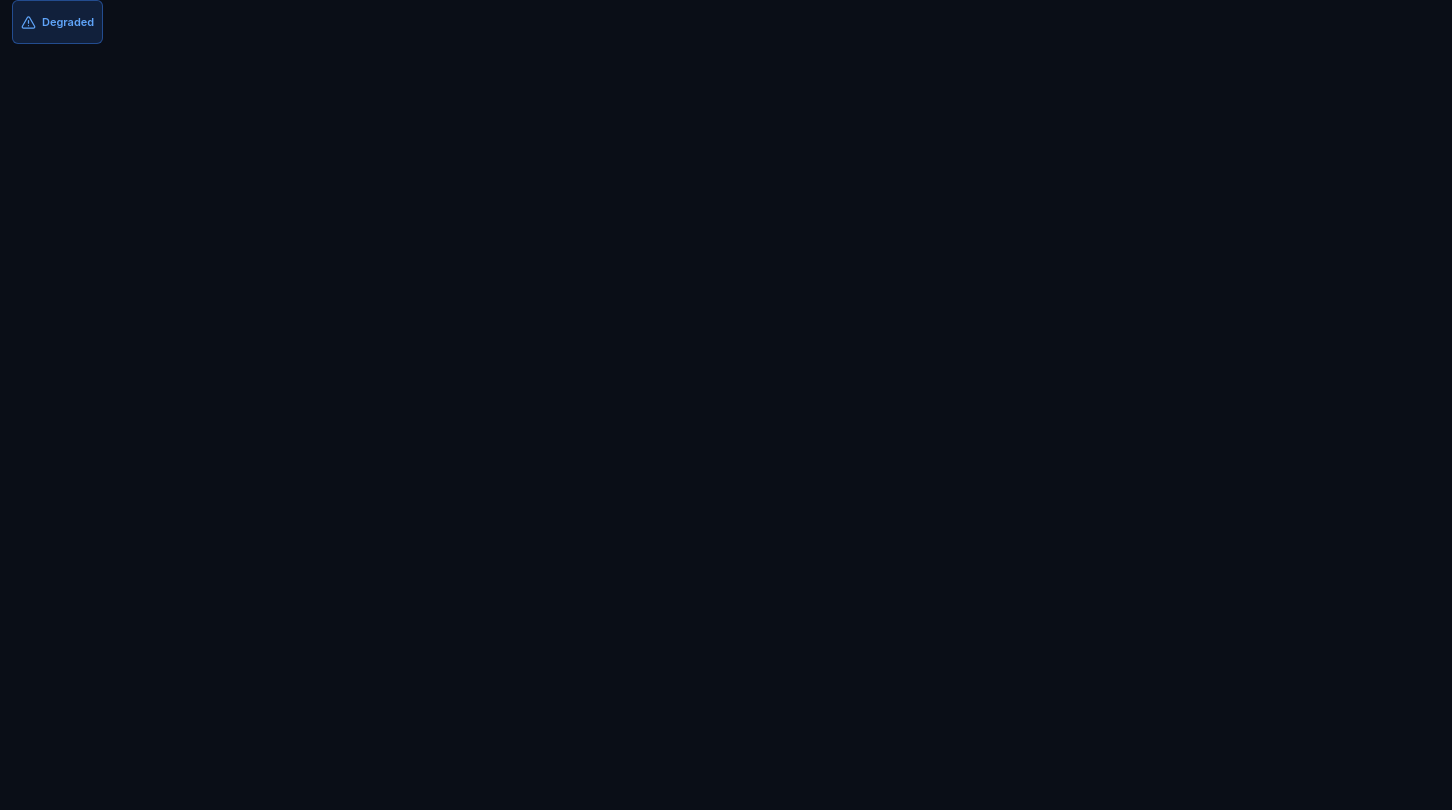
Test: DashboardHealth › names observation scope and never displays crawl time as the news source date
Step 1. Click the button with aria-label "Workspace health:" → (58, 22), box [12,0,103,44]
(page scrolled)
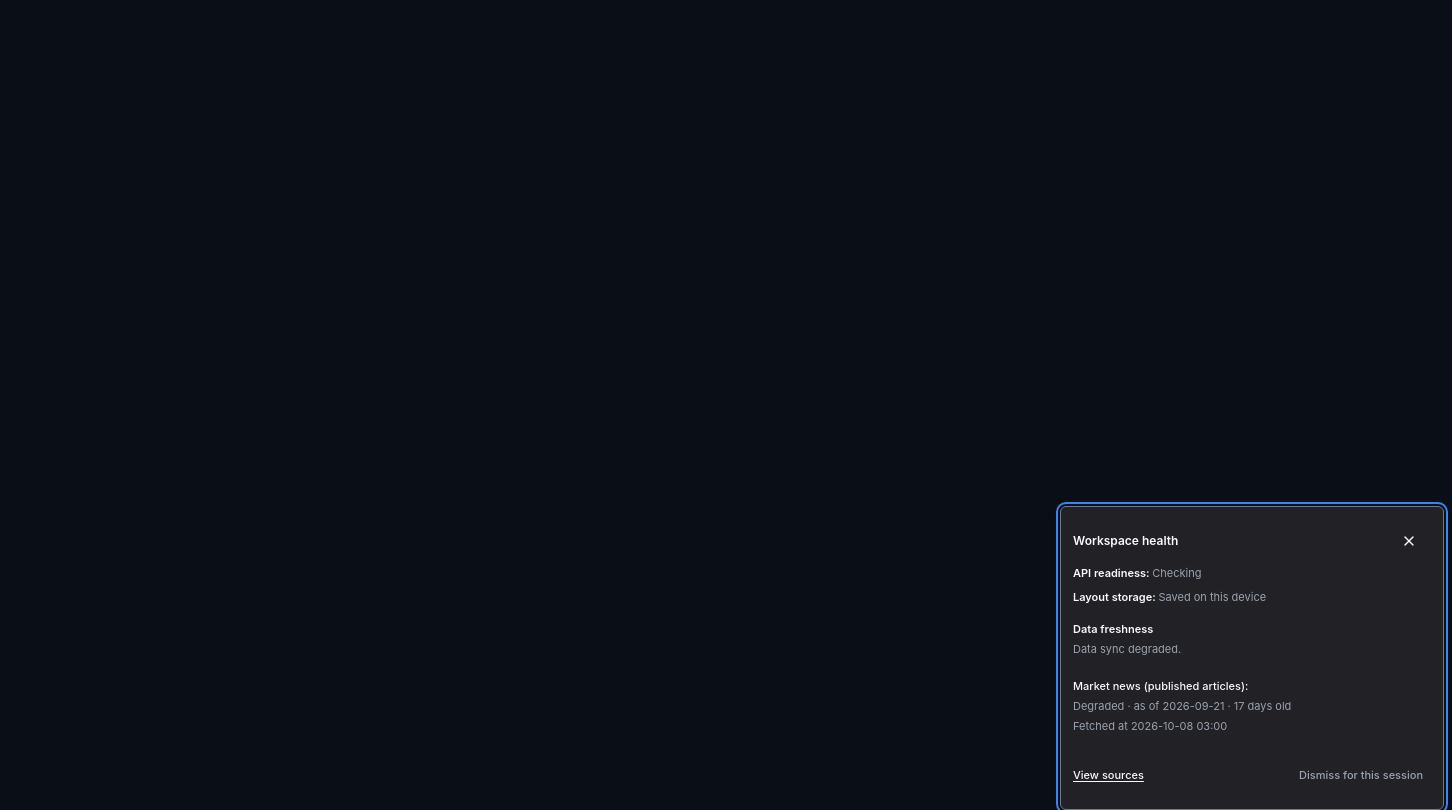
Now the text "Market news (published articles):" is shown, box [1073,679,1248,693]
Now the text "as of 2026-09-21 · 17 days old" is shown, box [1134,699,1291,713]
